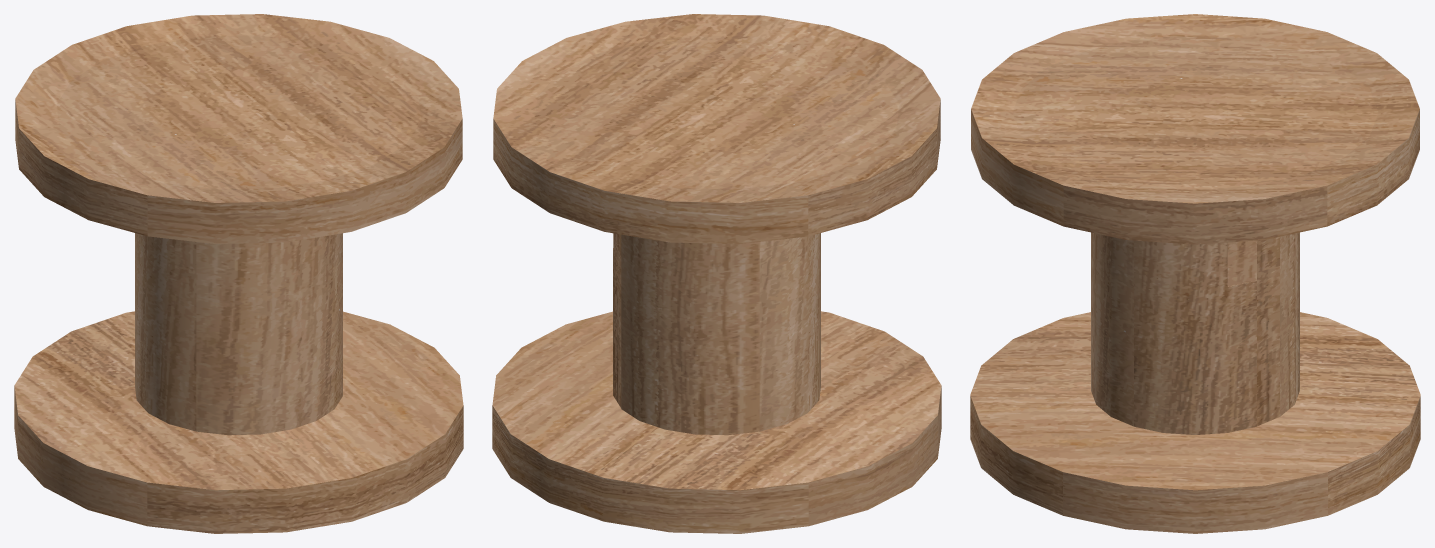
Rendered from MesaMadera.obj.
3 renders of one model, left to right at view 1: azimuth 30°, elevation 25°; view 2: azimuth 150°, elevation 25°; view 3: azimuth 270°, elevation 25°, orthographic.
Visible parts, largest first — view 1: MesaMadera; view 2: MesaMadera; view 3: MesaMadera.
Boxes of the visible parts, x1,y1,x2,y2 form: MesaMadera: (14, 14, 463, 533); MesaMadera: (492, 14, 941, 533); MesaMadera: (970, 14, 1420, 533).
Size of the model in its own units: 5.1 by 4.12 by 5.1.
Materials: 1 (1 with a texture image).
